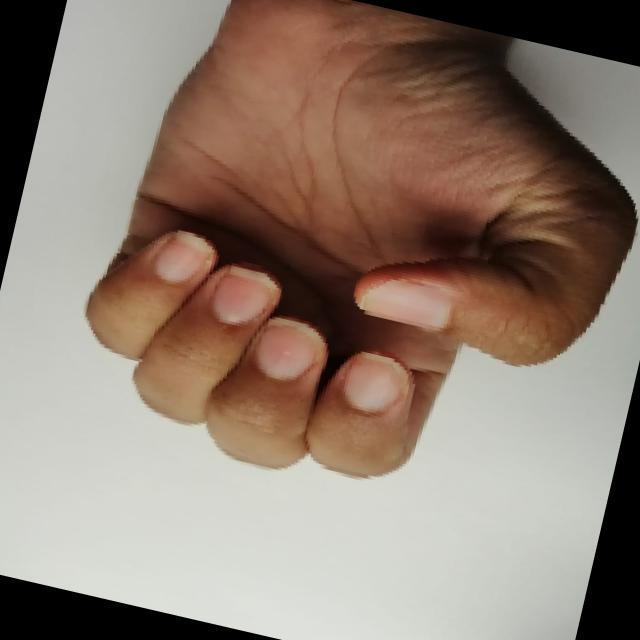Nail: (355, 279, 451, 330), (253, 316, 324, 378), (341, 351, 408, 411), (211, 265, 277, 323), (153, 229, 213, 282)
